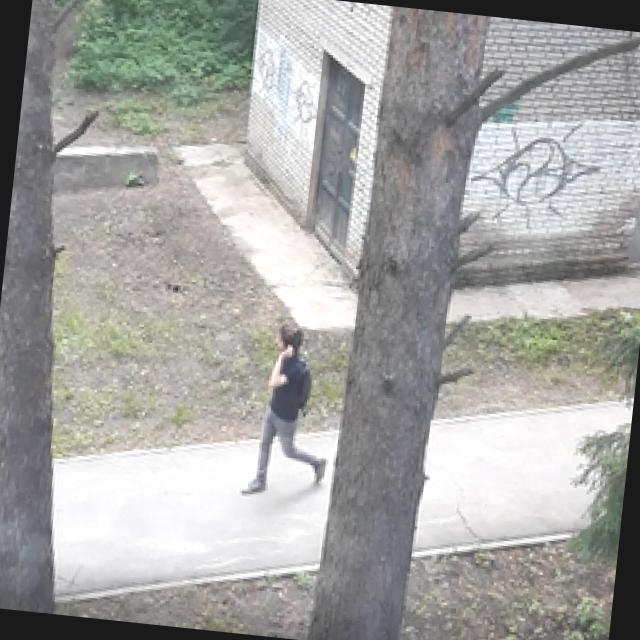person: (239, 319, 340, 504)
